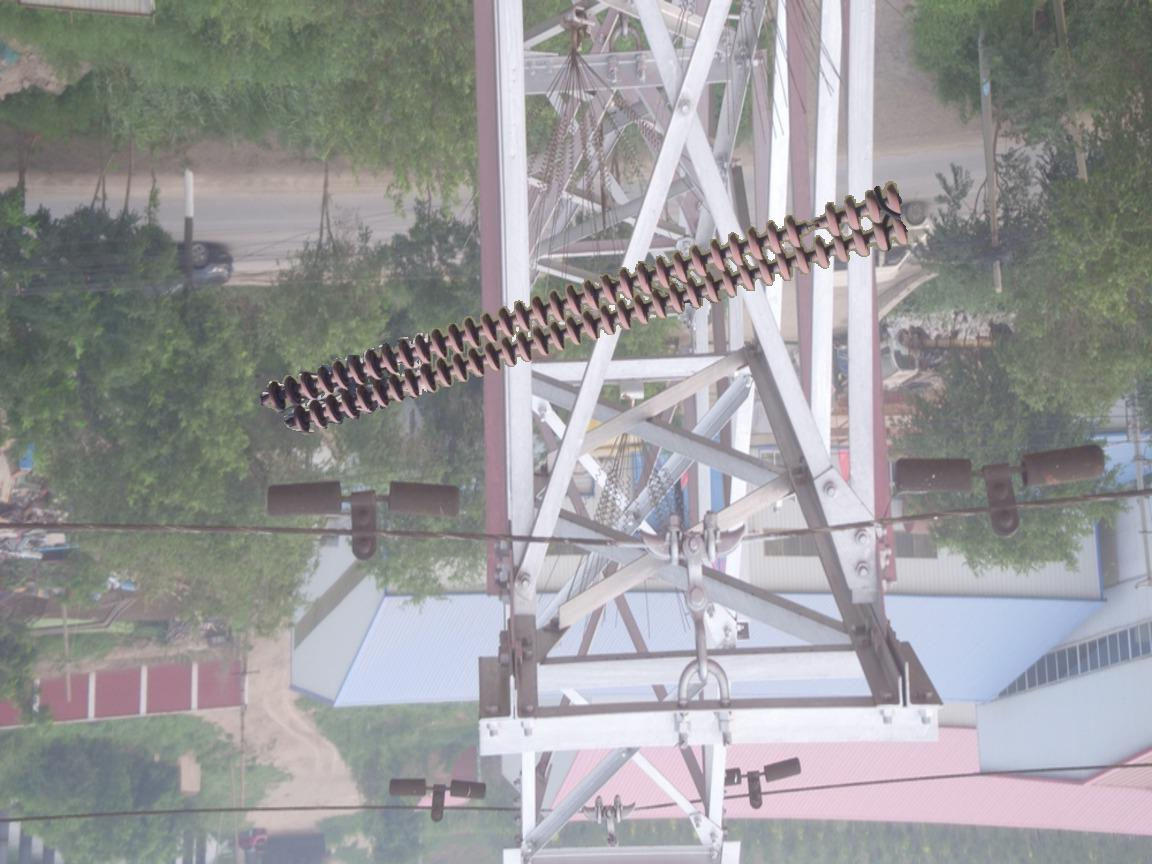insulator: (257, 178, 911, 435)
insulator_stringdrop: (782, 200, 843, 250)
